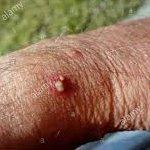Ants: (43, 68, 77, 99), (66, 46, 84, 64), (52, 127, 63, 142)
